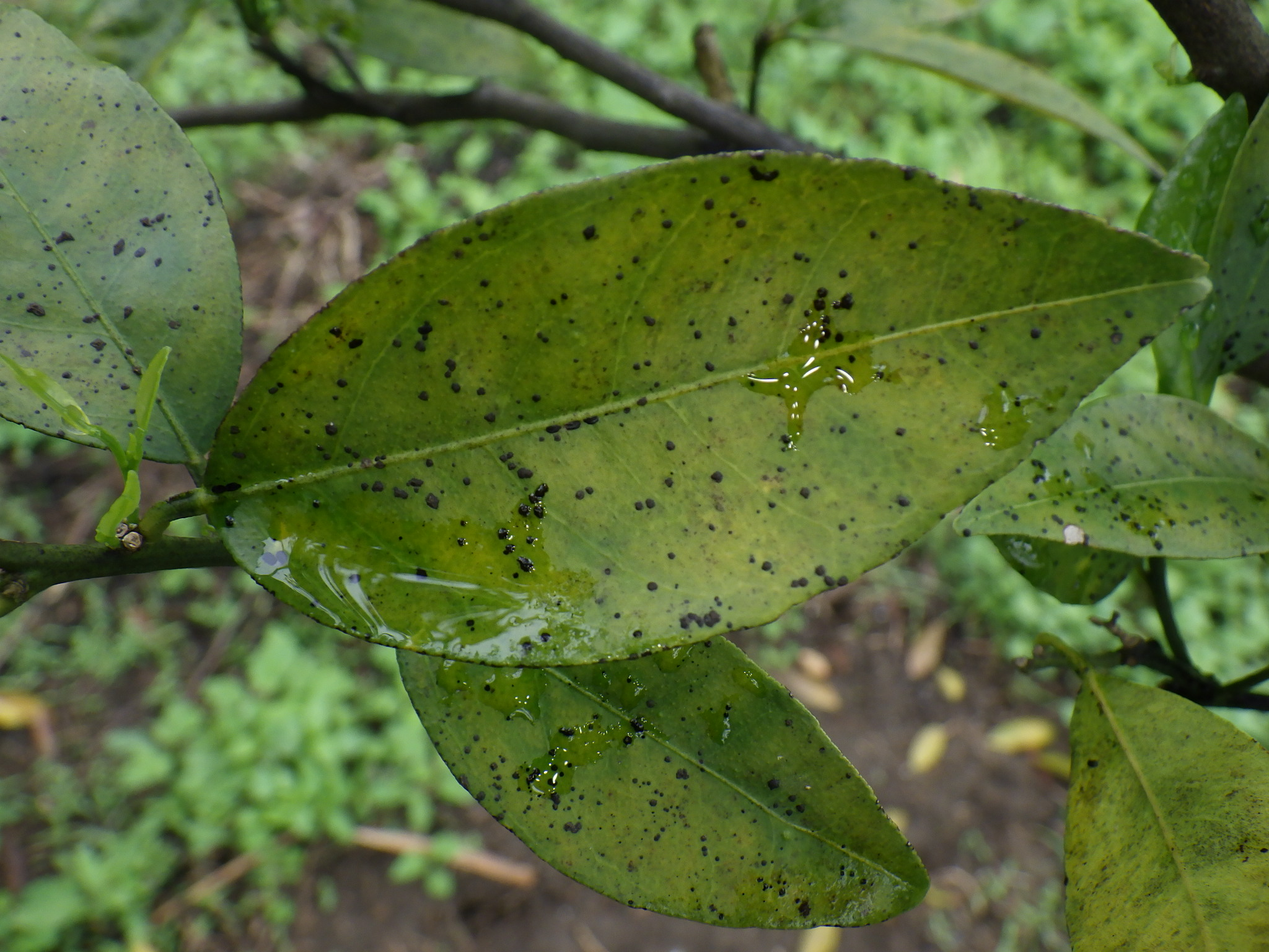Oily_Spot: (203, 153, 1208, 667)
